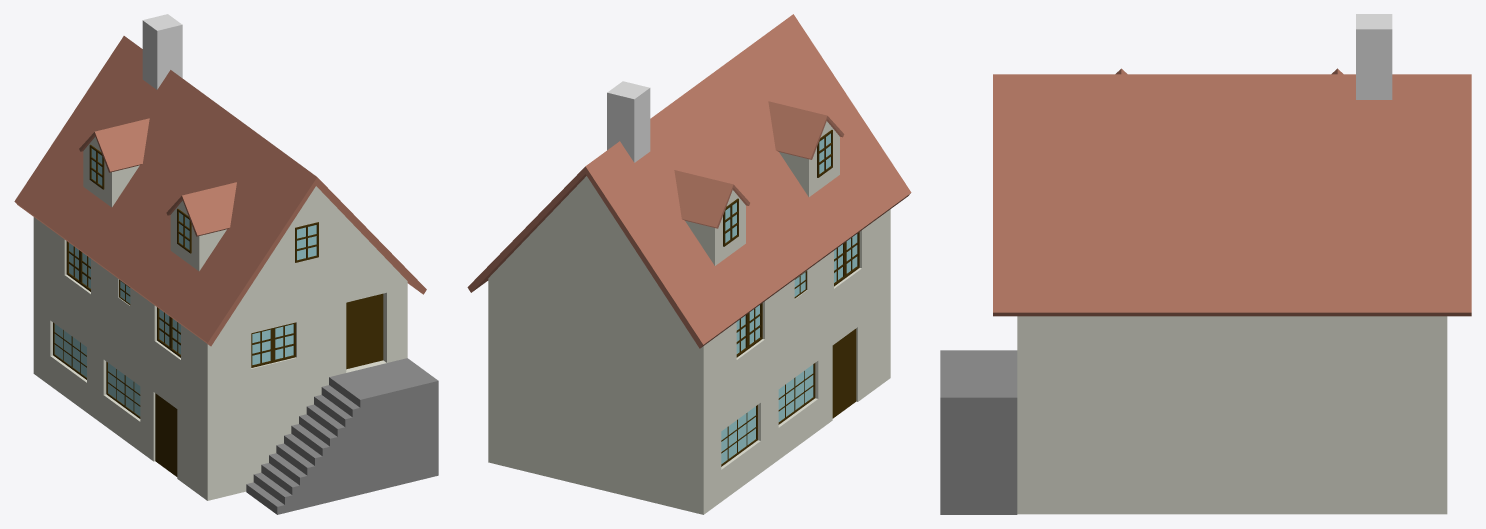
Rendered from House 9.fbx.
The picture shows the model from 3 angles, left to right: view 1: azimuth 30°, elevation 25°; view 2: azimuth 150°, elevation 25°; view 3: azimuth 270°, elevation 25°; orthographic projection. The views are drawn at different scales.
Parts seen in each view (by area): view 1: House 4.004, House 4.008, Cube.030, House 4.009, Cube.029, Cube.032, House 4.010, Cube.031, House 4.011; view 2: House 4.004, House 4.008, House 4.009, Cube.029, Cube.032, House 4.011, Cube.031; view 3: House 4.008, House 4.004, Cube.030, Cube.032.
Boxes of the visible parts, x1=… form: House 4.004: x1=33, y1=186, x2=407, y2=500; House 4.008: x1=14, y1=36, x2=426, y2=346; Cube.030: x1=246, y1=358, x2=438, y2=514; House 4.009: x1=53, y1=241, x2=295, y2=418; Cube.029: x1=83, y1=137, x2=226, y2=271; Cube.032: x1=142, y1=14, x2=182, y2=89; House 4.010: x1=346, y1=293, x2=383, y2=369; Cube.031: x1=89, y1=144, x2=318, y2=262; House 4.011: x1=155, y1=393, x2=177, y2=476; House 4.004: x1=488, y1=176, x2=890, y2=514; House 4.008: x1=467, y1=14, x2=911, y2=348; House 4.009: x1=721, y1=232, x2=859, y2=466; Cube.029: x1=685, y1=121, x2=839, y2=265; Cube.032: x1=607, y1=81, x2=650, y2=162; House 4.011: x1=832, y1=328, x2=856, y2=418; Cube.031: x1=723, y1=130, x2=832, y2=246; House 4.008: x1=993, y1=68, x2=1471, y2=316; House 4.004: x1=1017, y1=316, x2=1447, y2=514; Cube.030: x1=940, y1=350, x2=1017, y2=514; Cube.032: x1=1356, y1=14, x2=1392, y2=99.
Size of the model in its own units: 652 by 994 by 1106.
